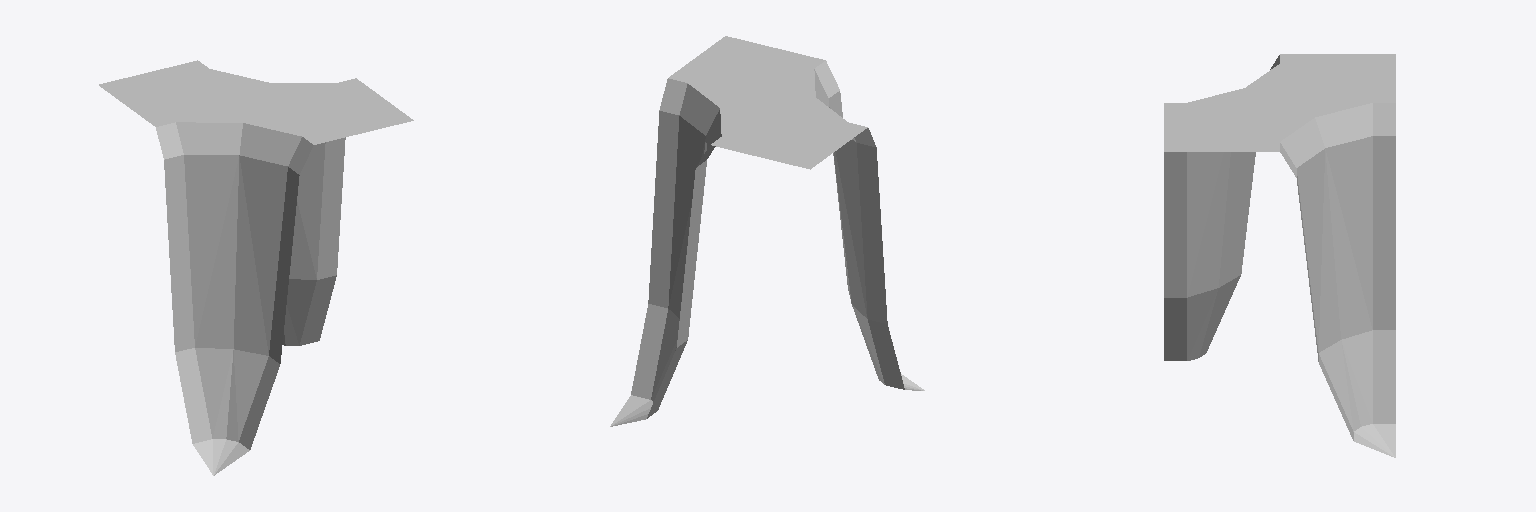
File: wall_09.obj
The picture shows the model from 3 angles: view 1: azimuth 30°, elevation 25°; view 2: azimuth 150°, elevation 25°; view 3: azimuth 270°, elevation 25°; orthographic projection.
Visible parts, largest first — view 1: wall_09_Cave_Wall_Inner.019; view 2: wall_09_Cave_Wall_Inner.019; view 3: wall_09_Cave_Wall_Inner.019.
Boxes of the visible parts, <box> form: wall_09_Cave_Wall_Inner.019: <box>99,60,413,475</box>; wall_09_Cave_Wall_Inner.019: <box>610,36,924,426</box>; wall_09_Cave_Wall_Inner.019: <box>1164,54,1395,457</box>.
Bounding box in the file's own units: 1 × 1.46 × 1.